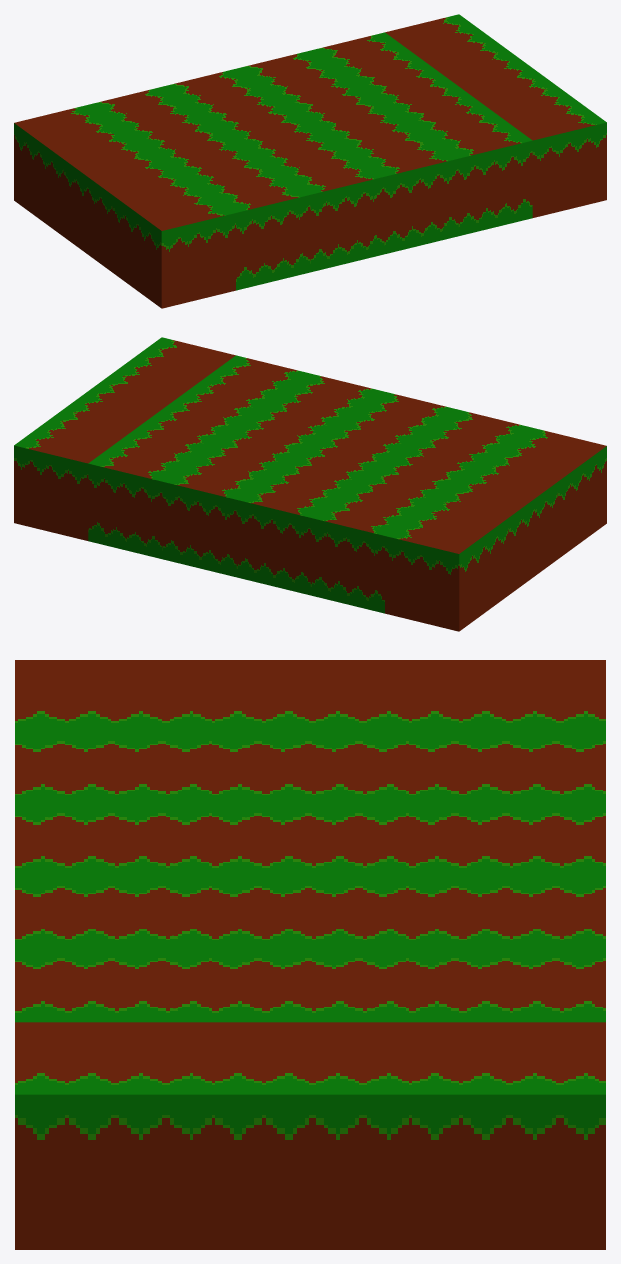
Rendered from Luna5NoiteTrava8Rev.glb.
3 renders of one model, top to bottom at view 1: azimuth 30°, elevation 25°; view 2: azimuth 150°, elevation 25°; view 3: azimuth 270°, elevation 25°, orthographic. The views are drawn at different scales.
Visible parts, largest first — view 1: Setor_4, Setor_3; view 2: Setor_4, Setor_3; view 3: Setor_4, Setor_3.
Boxes of the visible parts, left/top/right/bottom form: Setor_4: left=163, top=14, right=606, bottom=272; Setor_3: left=14, top=86, right=310, bottom=308; Setor_4: left=14, top=337, right=457, bottom=595; Setor_3: left=310, top=409, right=606, bottom=631; Setor_4: left=15, top=805, right=605, bottom=1249; Setor_3: left=15, top=660, right=605, bottom=804.
Size of the model in its own units: 7.65 by 1.27 by 4.4.
Materials: 1 (1 with a texture image).
